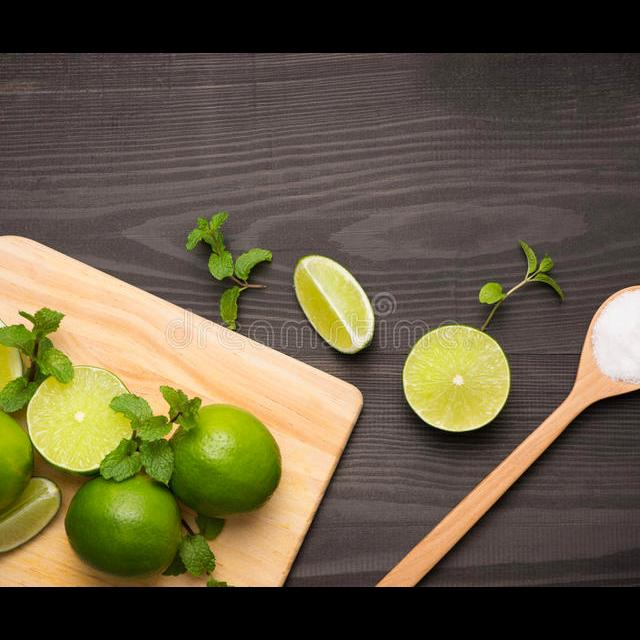lime: (59, 444, 192, 584), (156, 394, 290, 522), (0, 397, 40, 520)
